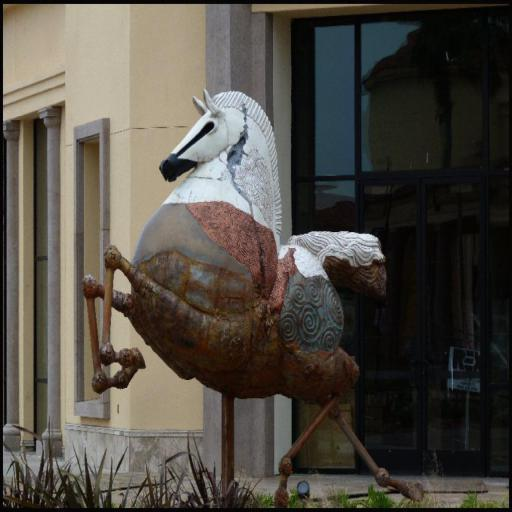horse: (82, 86, 424, 504)
